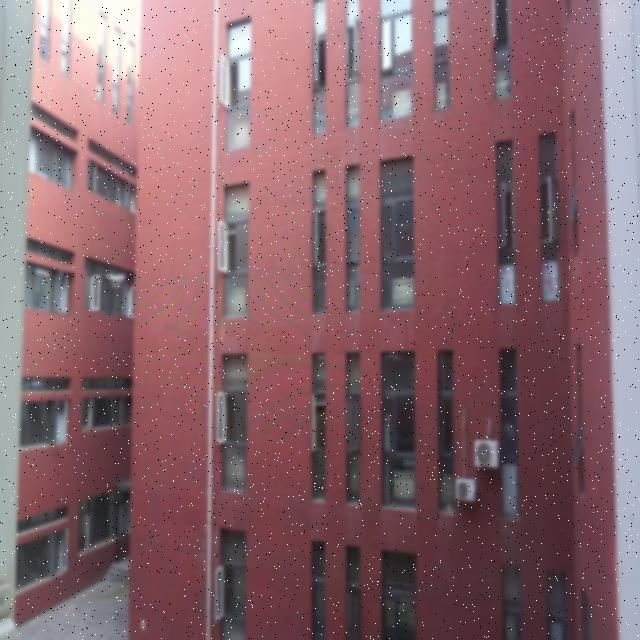UAV: (105, 273, 126, 288)
